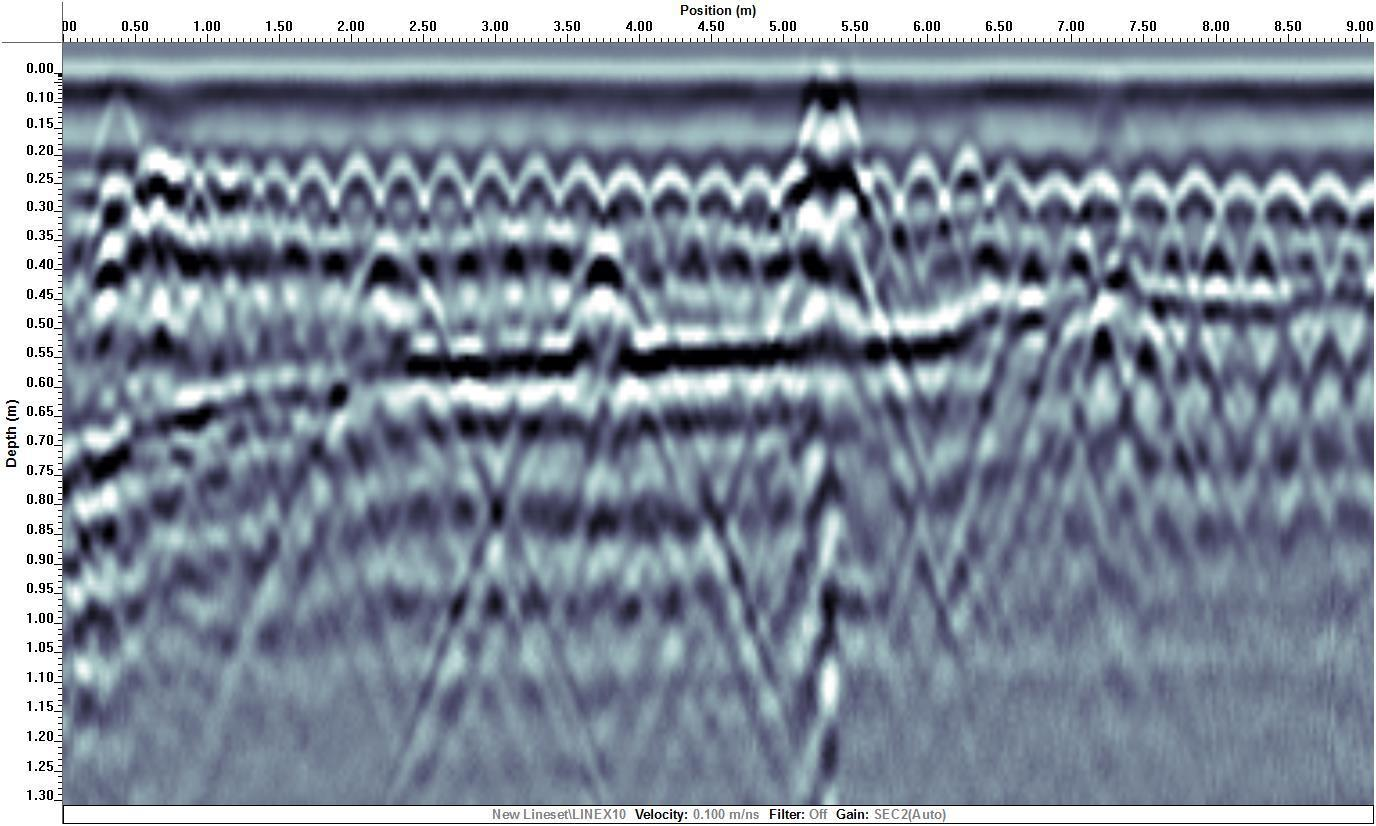hyperbola: (325, 233, 445, 360), (540, 237, 660, 364), (247, 149, 299, 282), (292, 147, 344, 280), (330, 145, 382, 278), (380, 143, 432, 276), (424, 148, 476, 281), (460, 148, 512, 281), (508, 150, 560, 283), (555, 150, 607, 283), (599, 160, 651, 293), (645, 152, 697, 285), (689, 152, 741, 285), (731, 150, 783, 283), (898, 144, 950, 277), (940, 142, 992, 275), (987, 150, 1039, 283), (1033, 152, 1085, 285), (1074, 161, 1126, 294), (1120, 161, 1172, 294), (1171, 159, 1223, 292), (1216, 159, 1268, 292), (1260, 157, 1312, 290), (1300, 155, 1352, 288), (1324, 159, 1376, 292)
